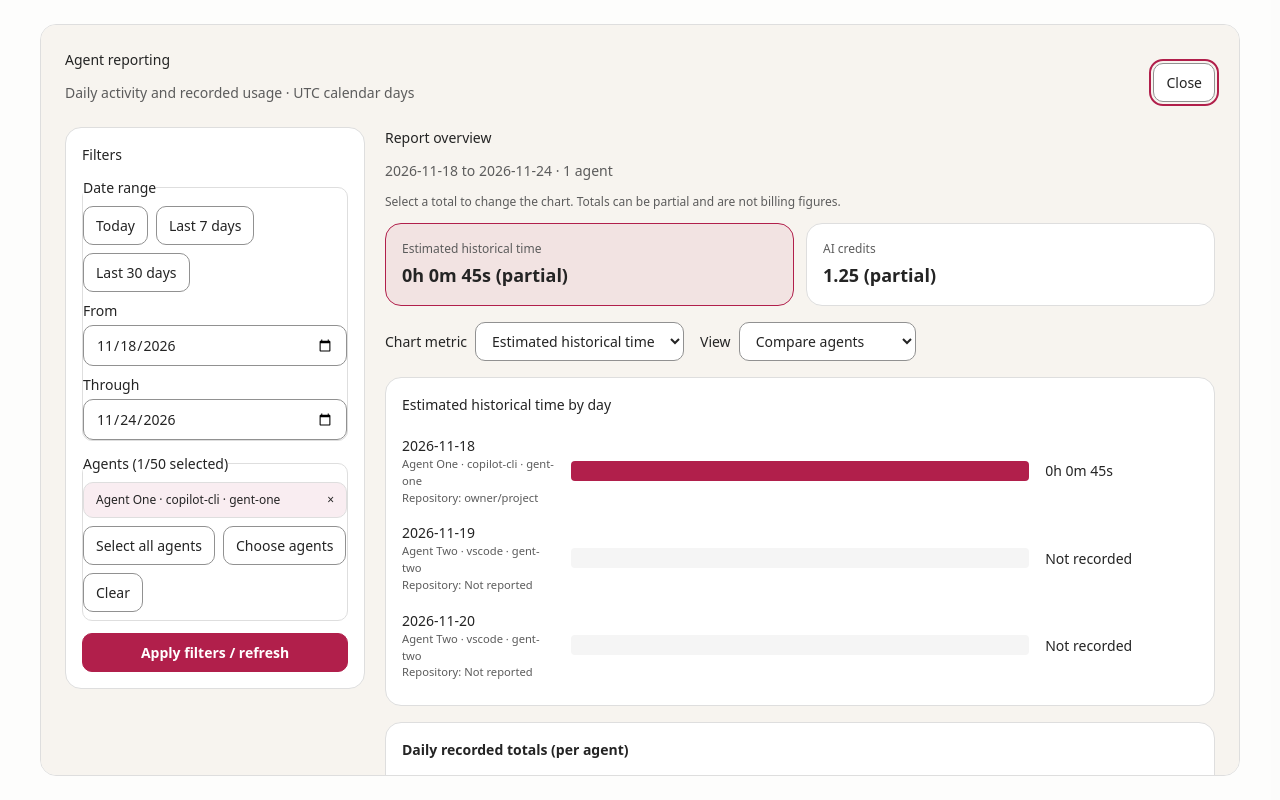
Test case: agent reporting › omits unrecorded agent-days from comparisons but retains recorded zeroes and calls
Expected: the button "AI credits 1.25 (partial)" is shown, [806,223,1215,306]
Select "Compare agents" in the dropdown labelled "View" at (827, 342), box [739,322,916,361]
(page scrolled)
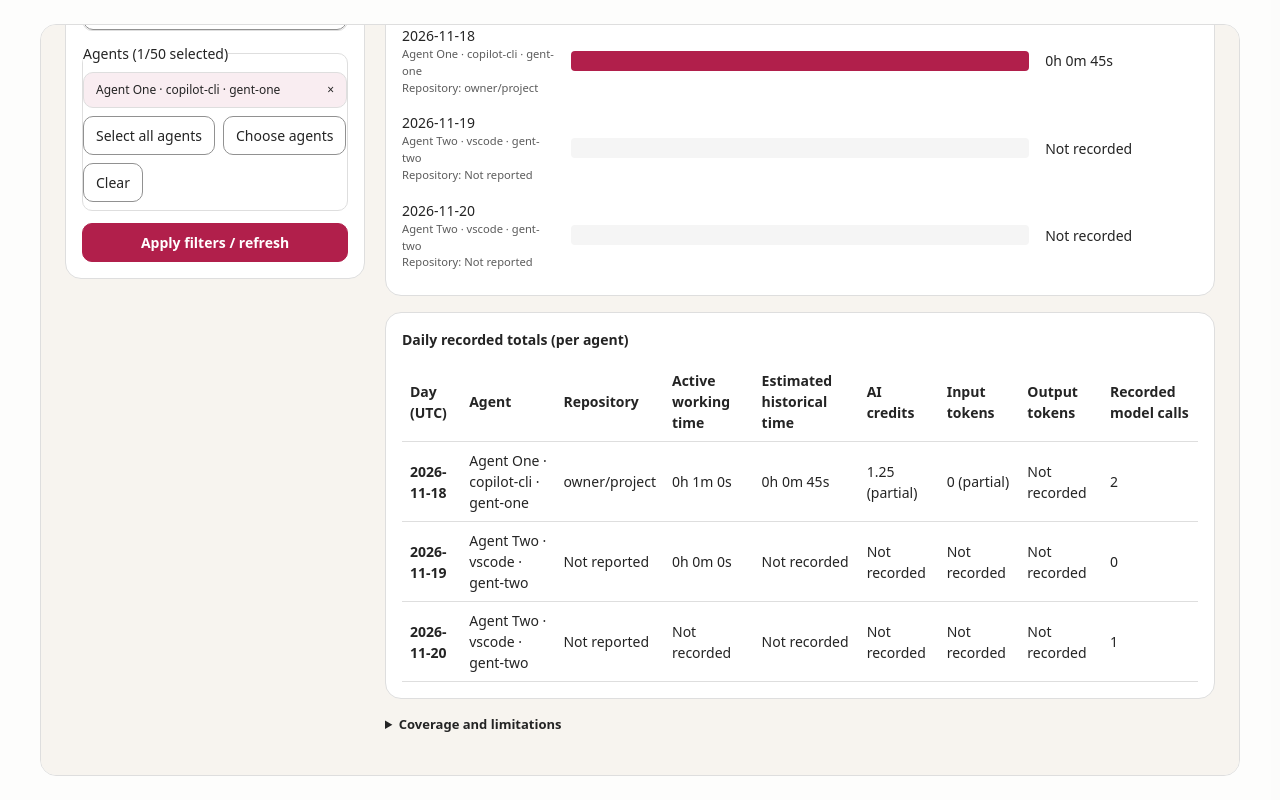
Result: the row that starts with "Agent One · copilot-cli · gent-one" is shown at [469,451,547,512]
Result: the 3rd row shows "Agent Two" at [469,531,546,592]
Result: the 3rd row shows "0h 0m 0s" at [672,552,732,571]
